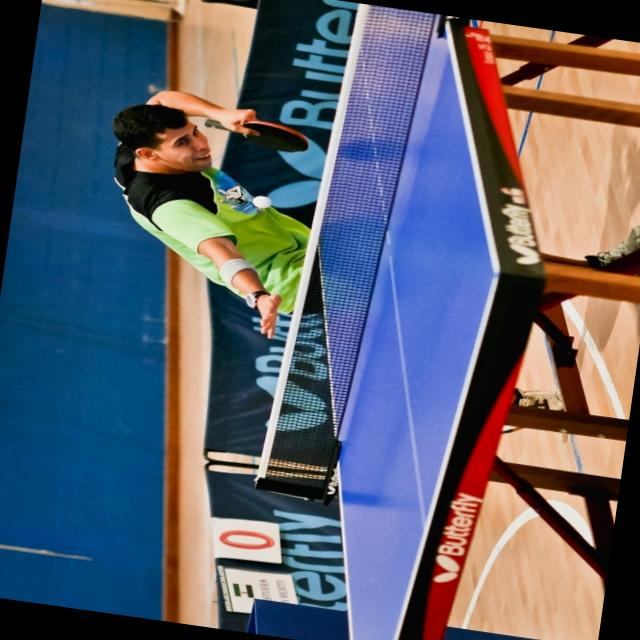TT Net: (251, 0, 445, 503)
TT Racket: (204, 101, 318, 161)
TT Table: (286, 0, 535, 640)
